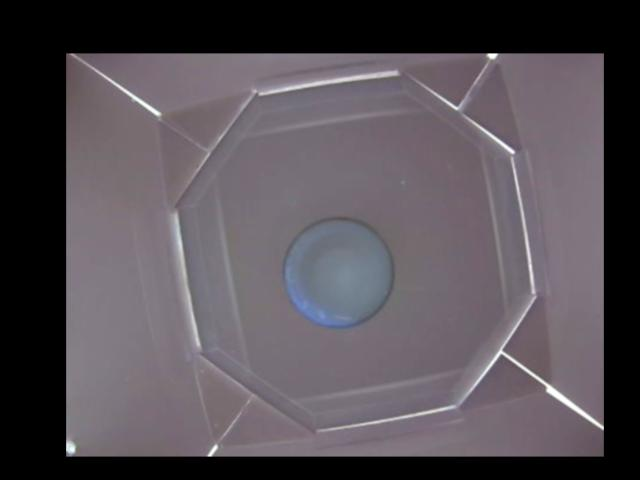Bottle: (283, 216, 396, 329)
